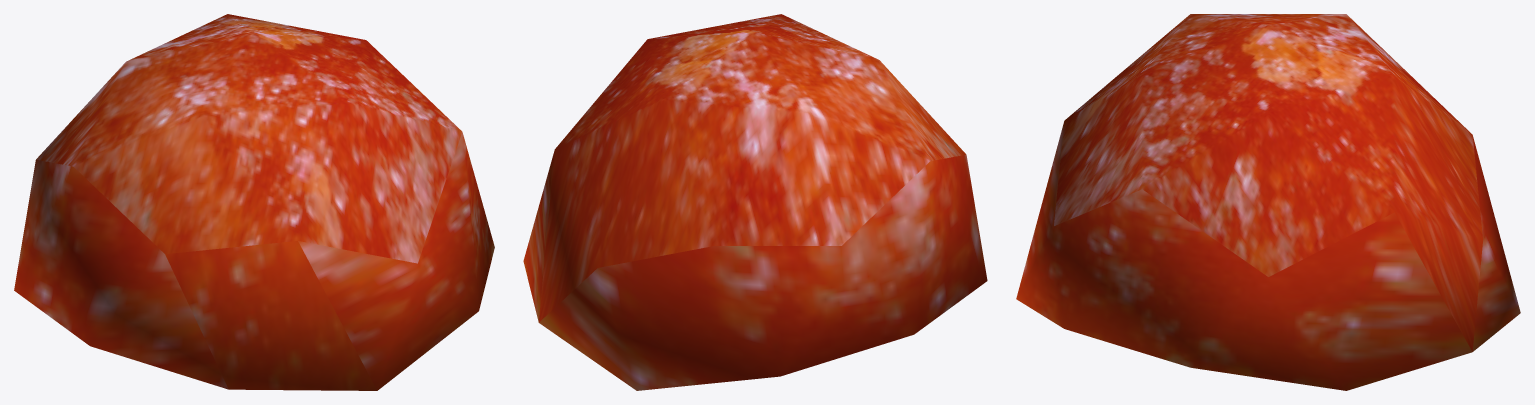
Rendered from CandyGumDropRedOrange.fbx.
3 views of the same model, side by side, from view 1: azimuth 30°, elevation 25°; view 2: azimuth 150°, elevation 25°; view 3: azimuth 270°, elevation 25° (orthographic). The views are drawn at different scales.
Parts seen in each view (by area): view 1: Icosphere; view 2: Icosphere; view 3: Icosphere.
Part boxes in pixels (box(x1,y1,x2,y2)): Icosphere: box(14, 14, 494, 390); Icosphere: box(523, 14, 987, 390); Icosphere: box(1016, 14, 1520, 390).
Size of the model in its own units: 190 by 131 by 200.
